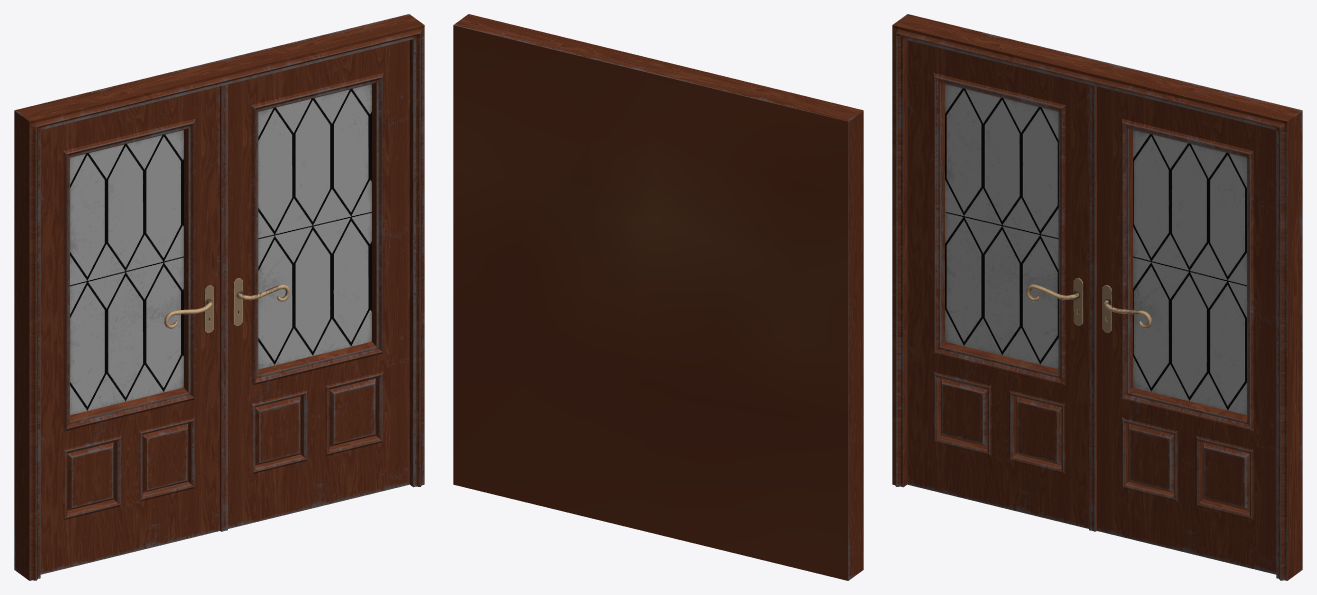
Rendered from Pubdoors.glb.
The picture shows the model from 3 angles, left to right: view 1: azimuth 30°, elevation 25°; view 2: azimuth 150°, elevation 25°; view 3: azimuth 330°, elevation 25°; orthographic projection.
Parts seen in each view (by area): view 1: Plane.007_entrance door_0; view 2: Plane.007_entrance door_0; view 3: Plane.007_entrance door_0.
Part boxes in pixels (x1=…): Plane.007_entrance door_0: x1=14, y1=14, x2=424, y2=580; Plane.007_entrance door_0: x1=453, y1=14, x2=863, y2=580; Plane.007_entrance door_0: x1=892, y1=14, x2=1302, y2=580.
Size of the model in its own units: 1.97 by 2.19 by 0.1462.
Materials: 1 (1 with a texture image).
